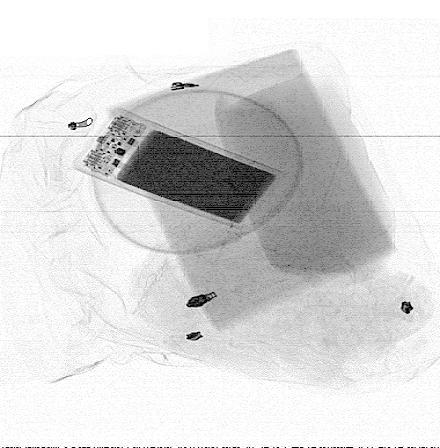Powerbank: (68, 107, 286, 230)
